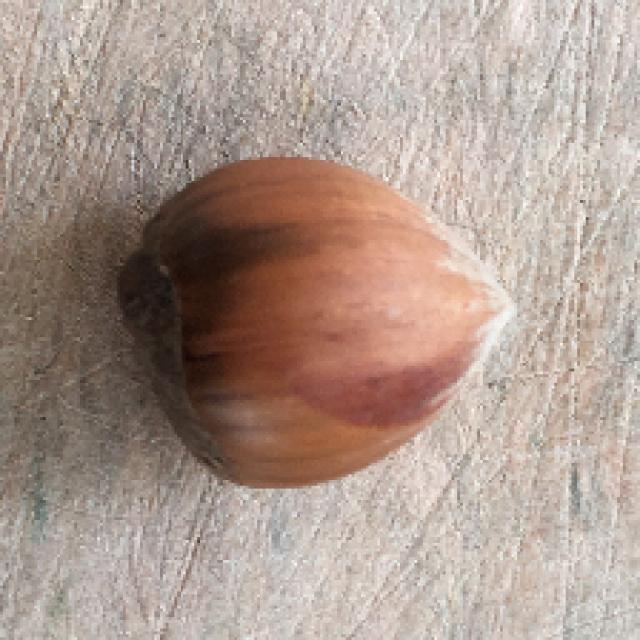qualityHazelnut: (114, 158, 520, 491)
